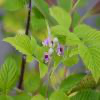Raspberry leaf: (77, 43, 99, 84), (2, 33, 33, 55), (49, 5, 73, 29)
